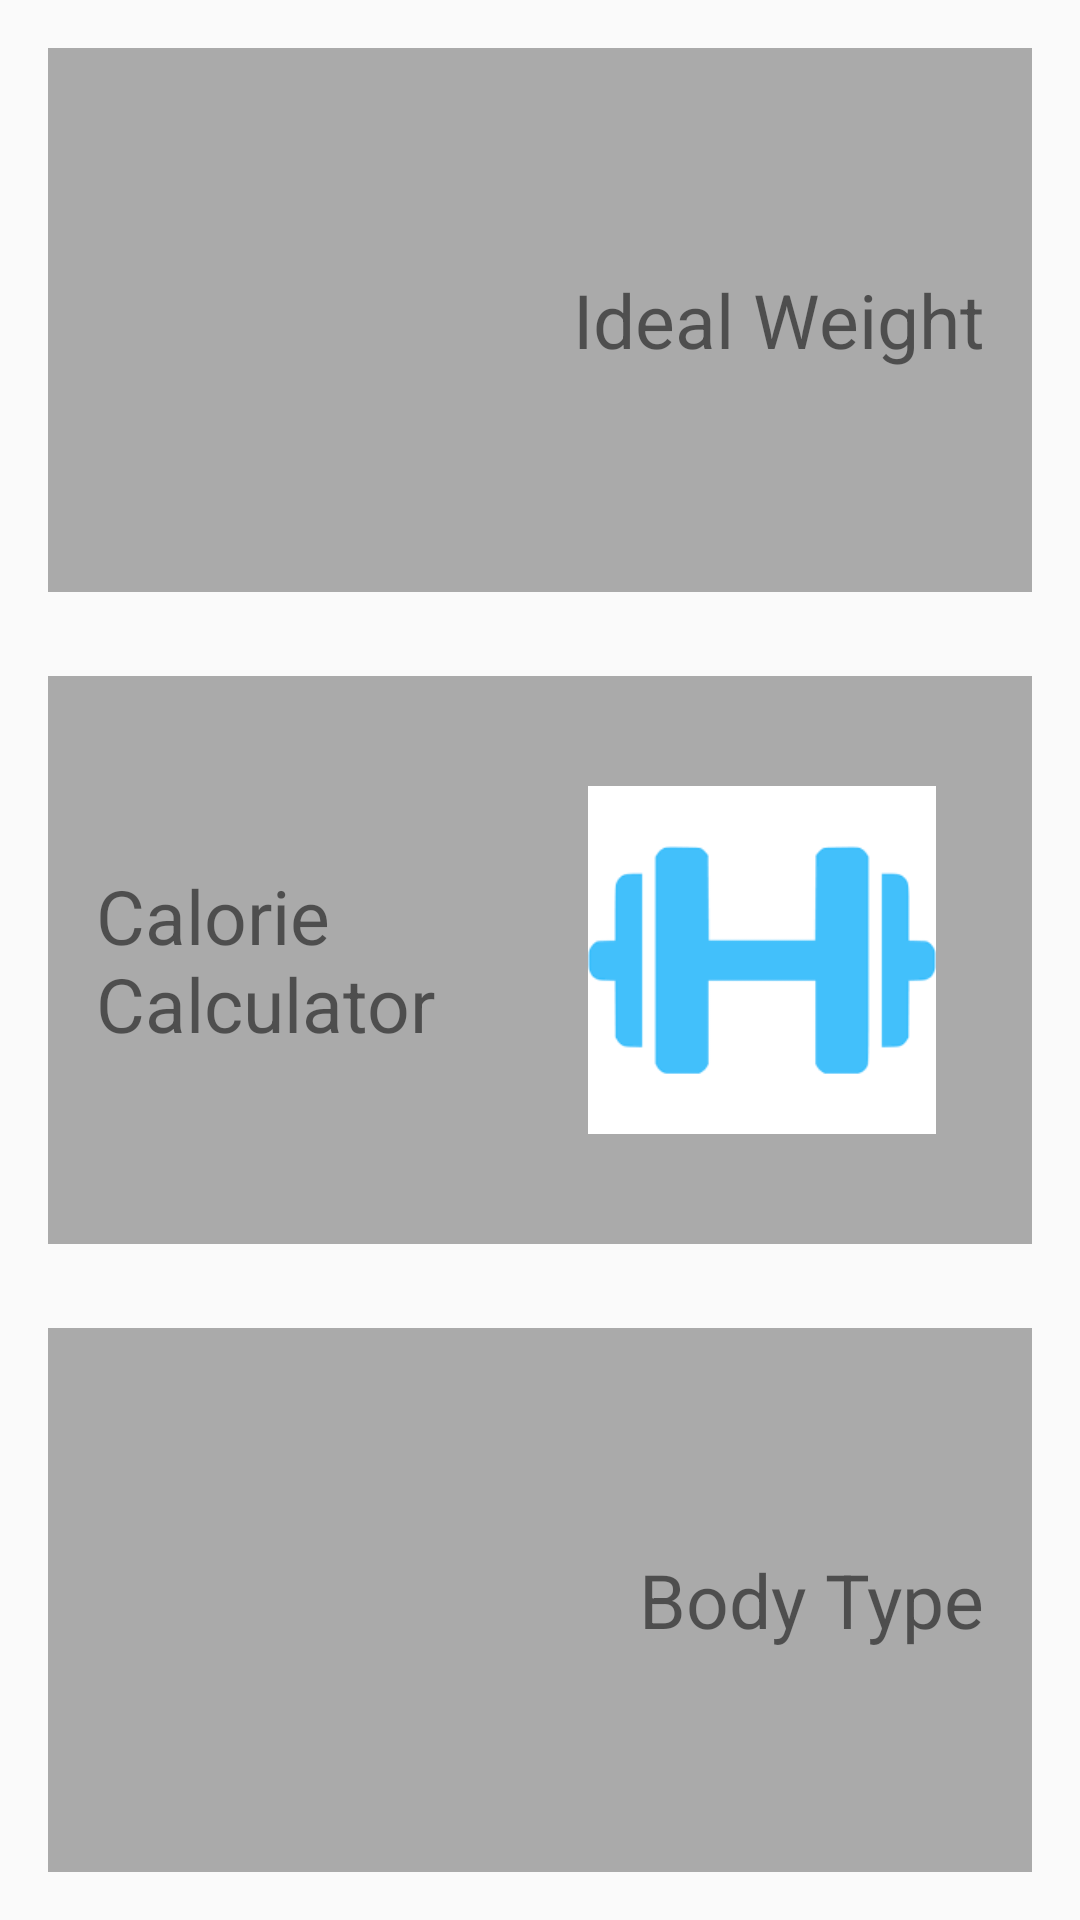

Icon bounding boxes for this 1080px x 1920px phone screenshot, format [x1,y1,x2,y2]:
dumbbell: [588,786,936,1134]
